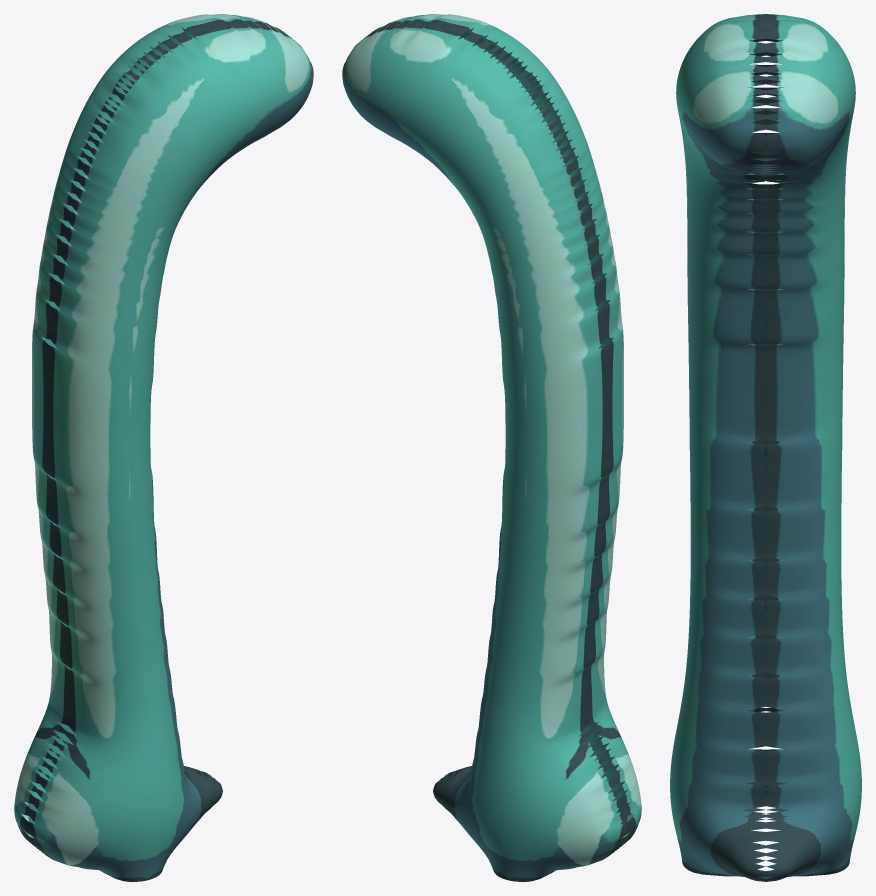
Rendered from curved_pipe.glb.
3 views of the same model, side by side, from view 1: azimuth 30°, elevation 25°; view 2: azimuth 150°, elevation 25°; view 3: azimuth 270°, elevation 25° (orthographic). The views are drawn at different scales.
Visible parts, largest first — view 1: curved_pipe; view 2: curved_pipe; view 3: curved_pipe.
Boxes of the visible parts, left/top/right/bottom form: curved_pipe: left=14, top=14, right=313, bottom=881; curved_pipe: left=342, top=14, right=641, bottom=881; curved_pipe: left=670, top=14, right=861, bottom=881.
Size of the model in its own units: 0.97 by 2.69 by 0.5271.
Materials: 1 (1 with a texture image).
